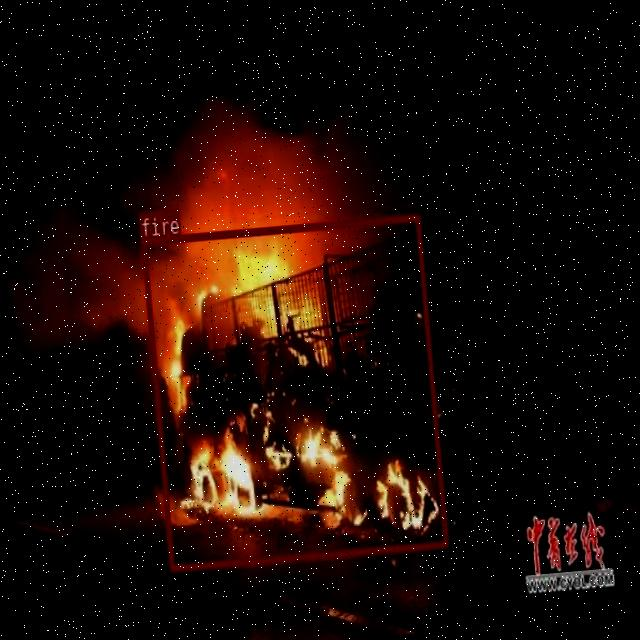fire: (139, 213, 447, 570)
